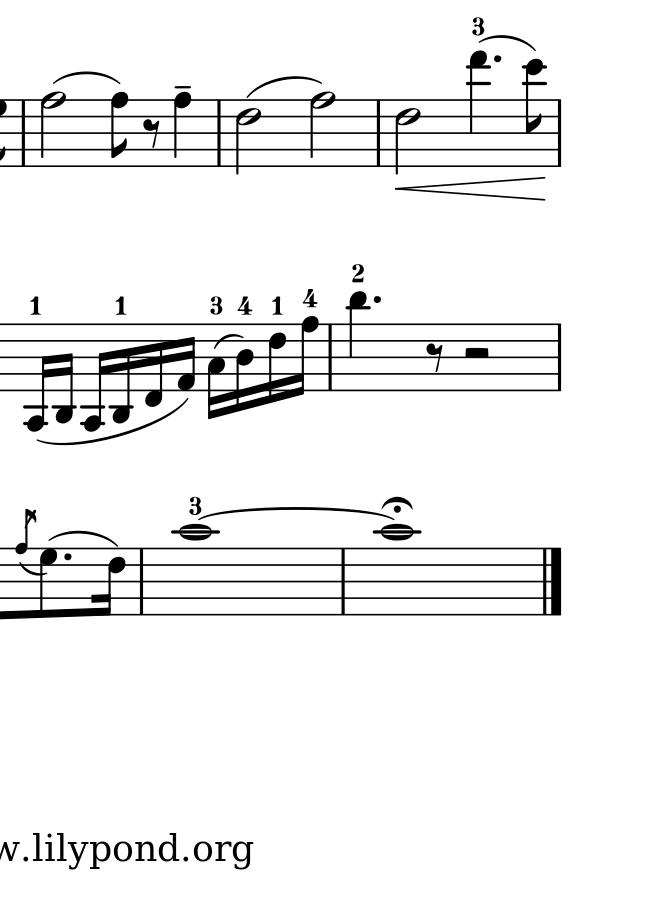1: (27, 294, 43, 318), (113, 295, 127, 316), (271, 293, 282, 316)
16_-1: (141, 323, 164, 408)
16_-3: (109, 323, 133, 424), (52, 322, 75, 425)
16_-4: (22, 320, 52, 435), (79, 323, 109, 434)
16_1: (175, 323, 197, 393)
16_3: (206, 323, 225, 421)
16_4: (234, 322, 254, 412)
16_6: (94, 546, 127, 619), (266, 322, 287, 404)
16_7: (37, 547, 60, 620)
16_8: (293, 316, 320, 398)
1_10: (175, 523, 215, 618), (377, 524, 416, 617)
2: (350, 261, 365, 284)
2_6: (234, 98, 261, 175), (394, 97, 420, 175)
2_8: (37, 90, 68, 170), (307, 90, 336, 170)
3: (470, 15, 486, 36), (208, 295, 224, 316), (187, 495, 202, 516)
4: (236, 294, 252, 315), (302, 288, 318, 308)
4_11: (346, 291, 370, 393)
4_13: (466, 49, 490, 170)
4_8: (171, 91, 193, 169)
8_12: (522, 58, 547, 170)
8_8: (107, 91, 130, 169)
Acciaccature: (14, 508, 36, 614)
Crescendo_hairpin: (394, 175, 546, 203)
Final_barline: (538, 546, 564, 615)
Rests2: (460, 344, 494, 365)
Rests8: (424, 341, 447, 375), (142, 115, 163, 150)
Single_barline: (15, 100, 33, 168), (336, 548, 353, 615), (551, 325, 567, 390), (371, 103, 387, 165), (322, 324, 337, 390), (552, 99, 566, 167), (135, 549, 149, 616), (213, 100, 227, 165)
Slur: (38, 397, 190, 446), (196, 508, 393, 521), (247, 75, 322, 100), (45, 529, 118, 547), (480, 33, 537, 52), (56, 69, 119, 84), (211, 332, 244, 349)
dot: (371, 293, 383, 306), (62, 550, 73, 563), (492, 53, 503, 64)
